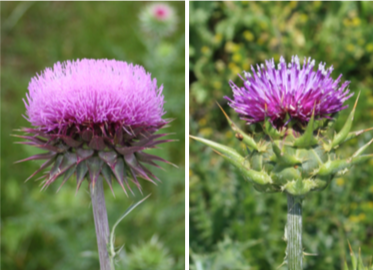thistle: (12, 55, 175, 198), (216, 57, 369, 201)
